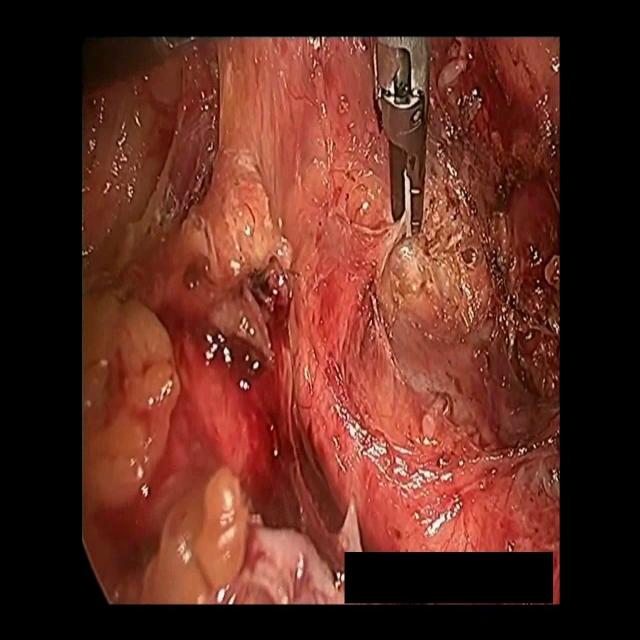surgical-area: (82, 36, 560, 604)
surgical-tool: (371, 38, 428, 236)
